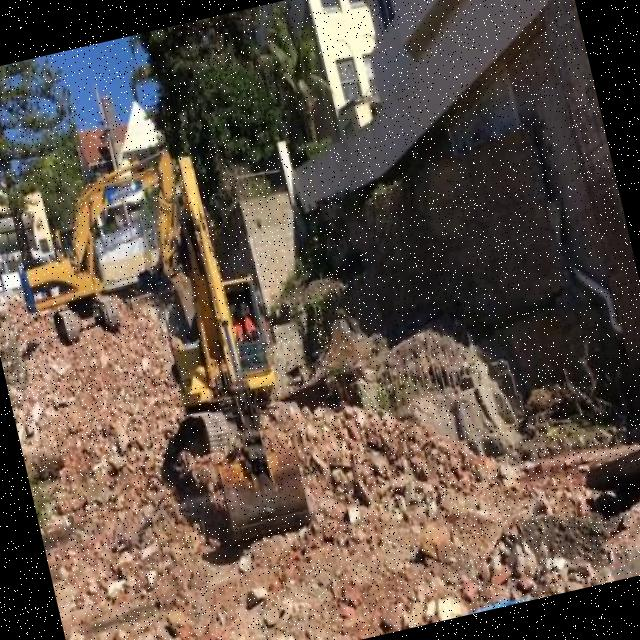Excavator: (120, 146, 316, 552), (0, 145, 207, 362)
